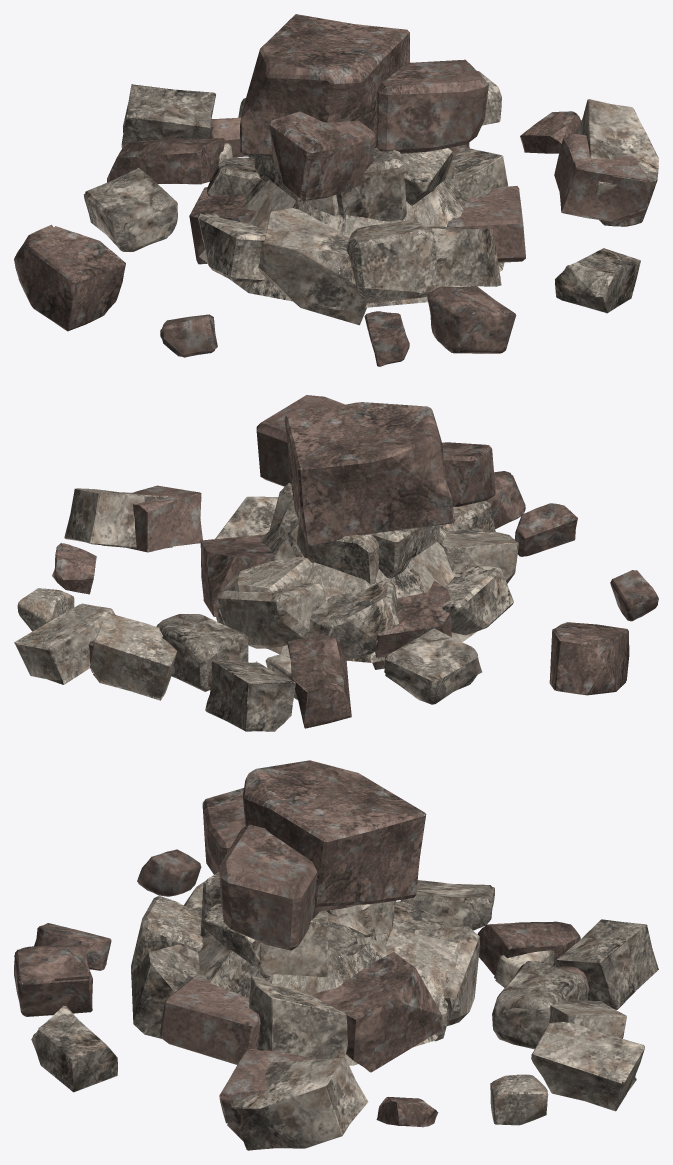
File: cima-infierno-occidental.glb
3 views of the same model, one above another, from view 1: azimuth 30°, elevation 25°; view 2: azimuth 150°, elevation 25°; view 3: azimuth 270°, elevation 25° (orthographic). The views are drawn at different scales.
Parts seen in each view (by area): view 1: hito_roca_beis, hito_granito_rojizo, bloque17, bloque16, bloque12, bloque3, bloque10, bloque1, bloque7, bloque8, bloque2, bloque13 (+3 smaller); view 2: hito_granito_rojizo, hito_roca_beis, bloque6, bloque17, bloque10, bloque12, bloque7, bloque15, bloque11, bloque16, bloque1, bloque13 (+5 smaller); view 3: hito_granito_rojizo, hito_roca_beis, bloque1, bloque15, bloque10, bloque11, bloque3, bloque8, bloque7, bloque12, bloque5, bloque16 (+5 smaller).
Part boxes in pixels (x1=…): hito_roca_beis: x1=197, y1=147, x2=508, y2=325; hito_granito_rojizo: x1=189, y1=14, x2=525, y2=264; bloque17: x1=14, y1=224, x2=125, y2=331; bloque16: x1=554, y1=134, x2=651, y2=221; bloque12: x1=83, y1=168, x2=177, y2=251; bloque3: x1=427, y1=285, x2=516, y2=353; bloque10: x1=121, y1=84, x2=215, y2=148; bloque1: x1=575, y1=99, x2=658, y2=226; bloque7: x1=107, y1=138, x2=225, y2=184; bloque8: x1=555, y1=248, x2=640, y2=313; bloque2: x1=160, y1=314, x2=217, y2=357; bloque13: x1=364, y1=311, x2=409, y2=366; hito_granito_rojizo: x1=200, y1=395, x2=495, y2=669; hito_roca_beis: x1=215, y1=483, x2=518, y2=662; bloque6: x1=90, y1=612, x2=176, y2=700; bloque17: x1=549, y1=622, x2=629, y2=695; bloque10: x1=205, y1=660, x2=295, y2=731; bloque12: x1=384, y1=628, x2=481, y2=704; bloque7: x1=287, y1=635, x2=351, y2=728; bloque15: x1=14, y1=603, x2=115, y2=684; bloque11: x1=156, y1=614, x2=248, y2=691; bloque16: x1=102, y1=485, x2=202, y2=552; bloque1: x1=64, y1=488, x2=172, y2=548; bloque13: x1=514, y1=503, x2=577, y2=556; hito_granito_rojizo: x1=160, y1=760, x2=442, y2=1072; hito_roca_beis: x1=131, y1=872, x2=479, y2=1065; bloque1: x1=231, y1=1057, x2=368, y2=1150; bloque15: x1=531, y1=1022, x2=644, y2=1111; bloque10: x1=554, y1=919, x2=658, y2=1009; bloque11: x1=492, y1=961, x2=587, y2=1049; bloque3: x1=14, y1=944, x2=92, y2=1016; bloque8: x1=31, y1=1005, x2=117, y2=1092; bloque7: x1=477, y1=921, x2=580, y2=975; bloque12: x1=400, y1=880, x2=494, y2=930; bloque5: x1=490, y1=1074, x2=548, y2=1125; bloque16: x1=219, y1=1048, x2=316, y2=1140.
Size of the model in its own units: 4.07 by 1.47 by 3.77.
Materials: 2 (2 with a texture image).
